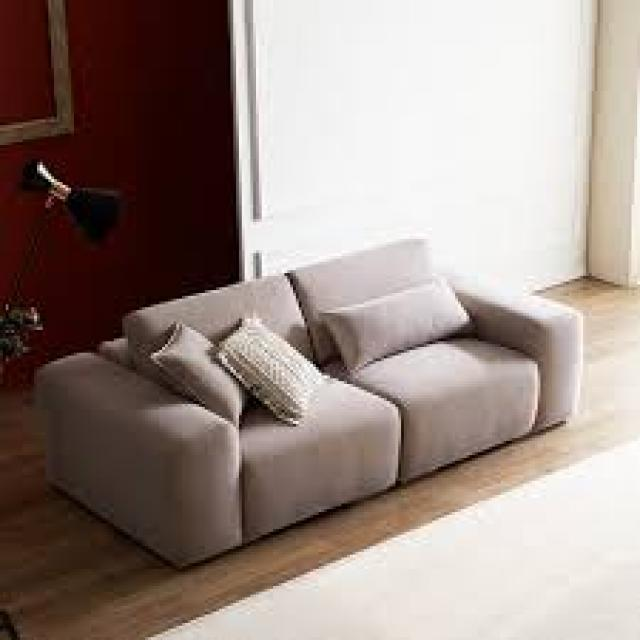Sofa: (20, 175, 587, 578)
